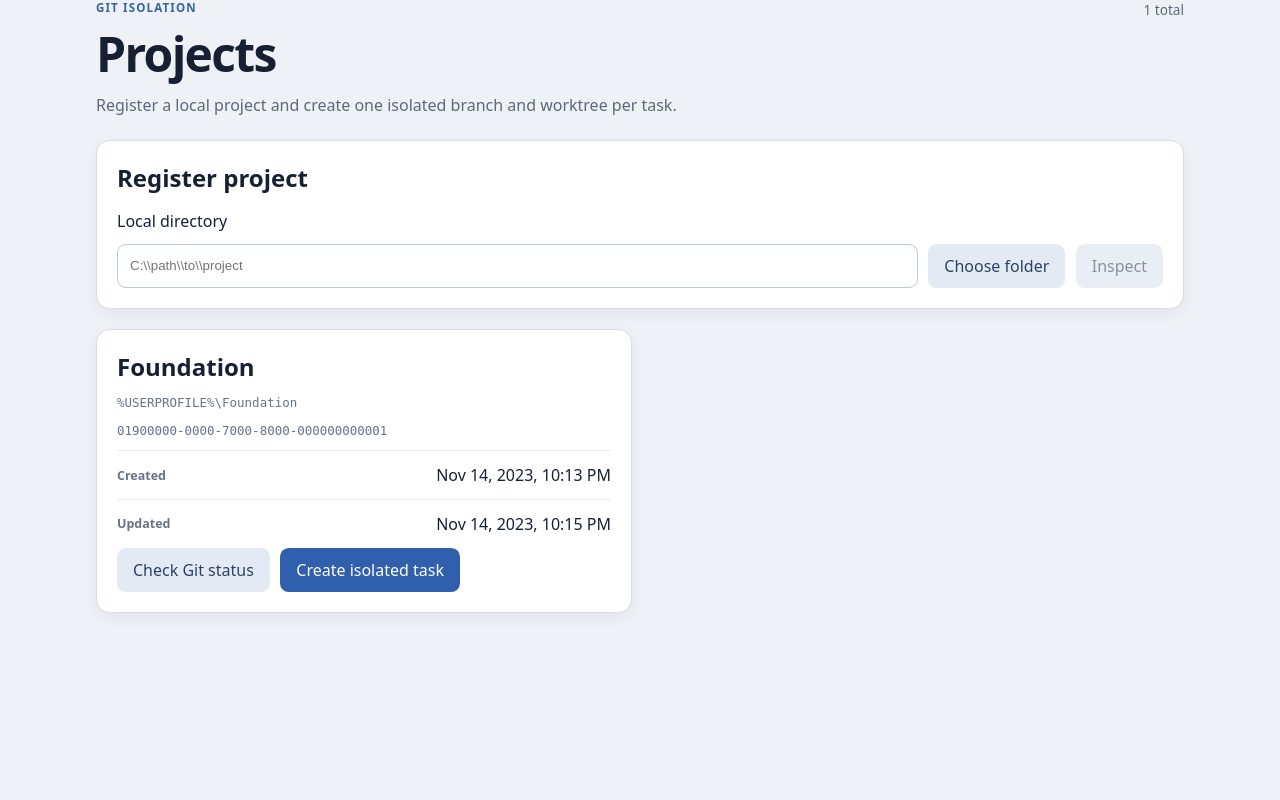
Test: explains the exact non-Git mutation before approval
Check: the heading "Foundation" is shown, box [117, 350, 255, 383]
Step 1. Click the button "Create isolated task" → (370, 570), box [280, 548, 460, 592]
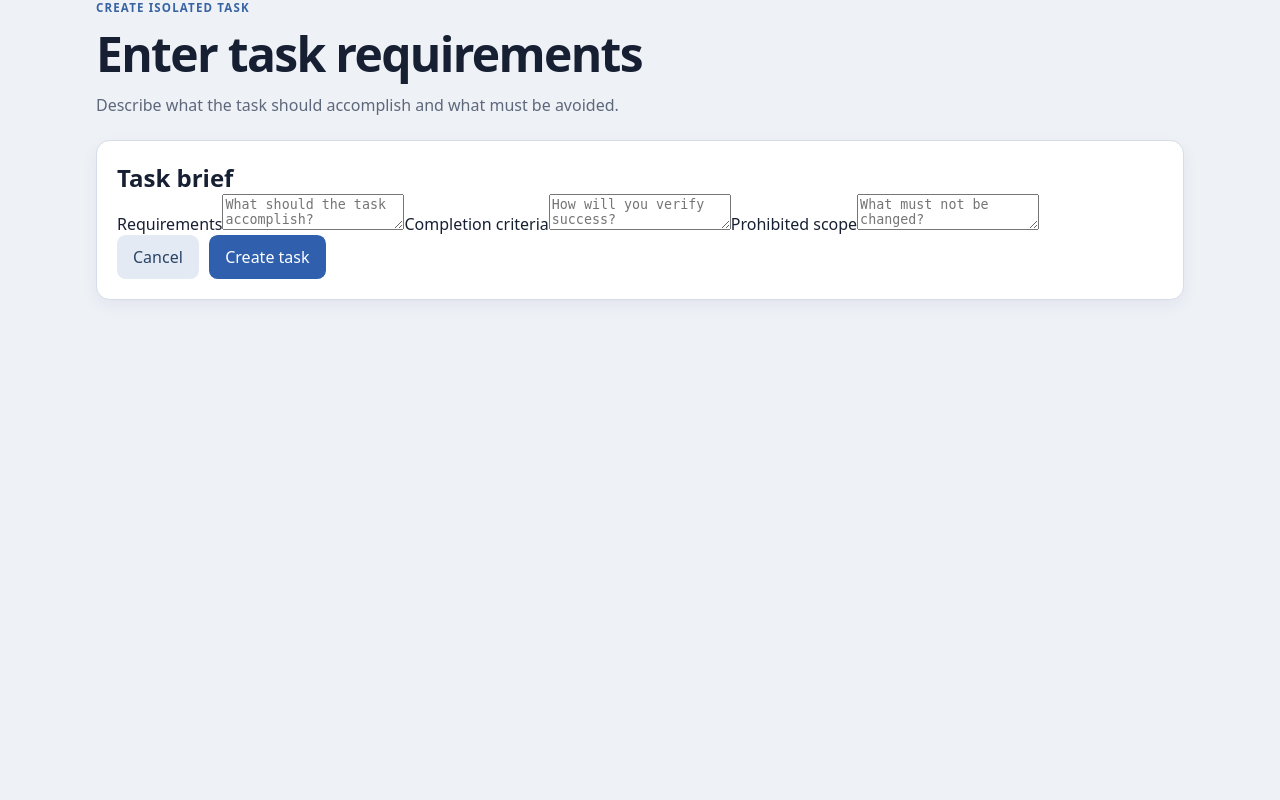
Check: the heading "Enter task requirements" is shown, box [96, 21, 642, 86]
Step 2. Type "Do something" into the text box labelled "Requirements" → (314, 212), box [222, 194, 404, 230]
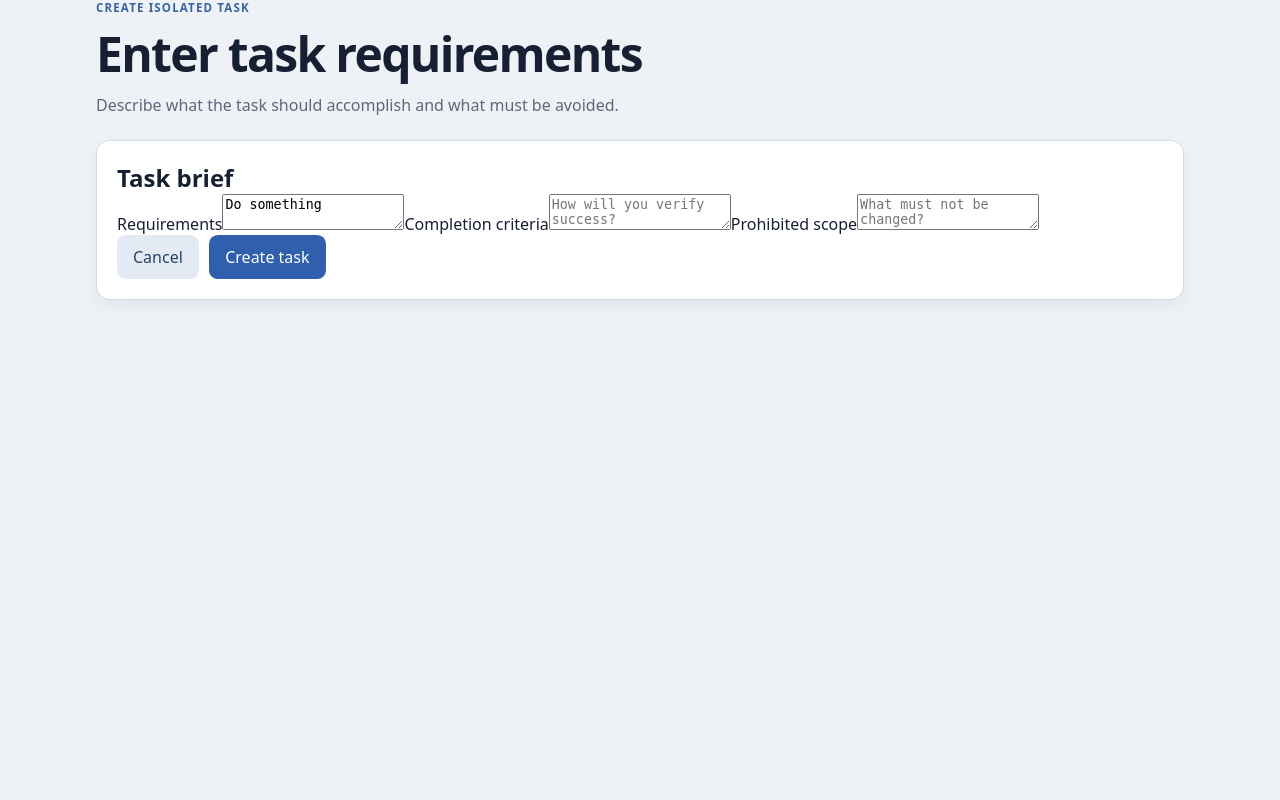
Step 3. Type "It works" into the text box labelled "Completion criteria" → (640, 212), box [549, 194, 731, 230]
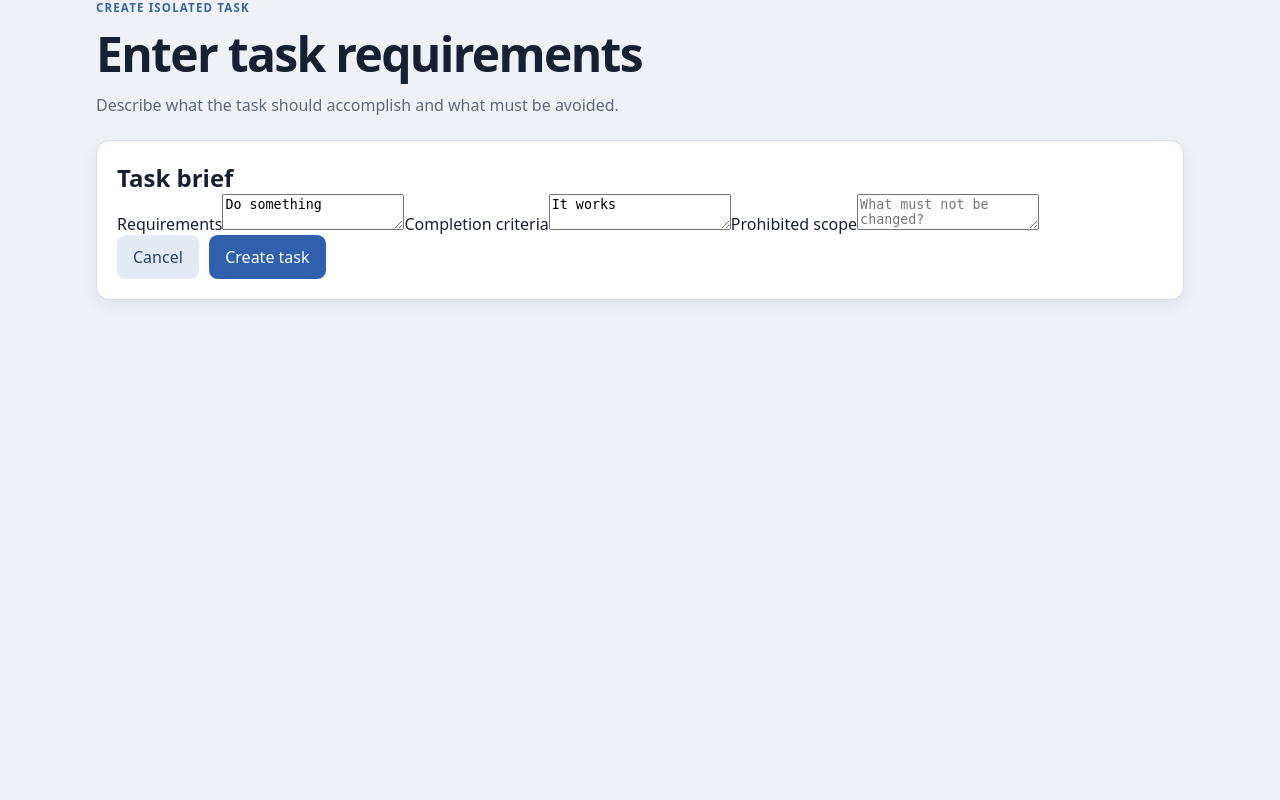
Step 4. Type "Don't break it" into the text box labelled "Prohibited scope" → (948, 212), box [857, 194, 1039, 230]
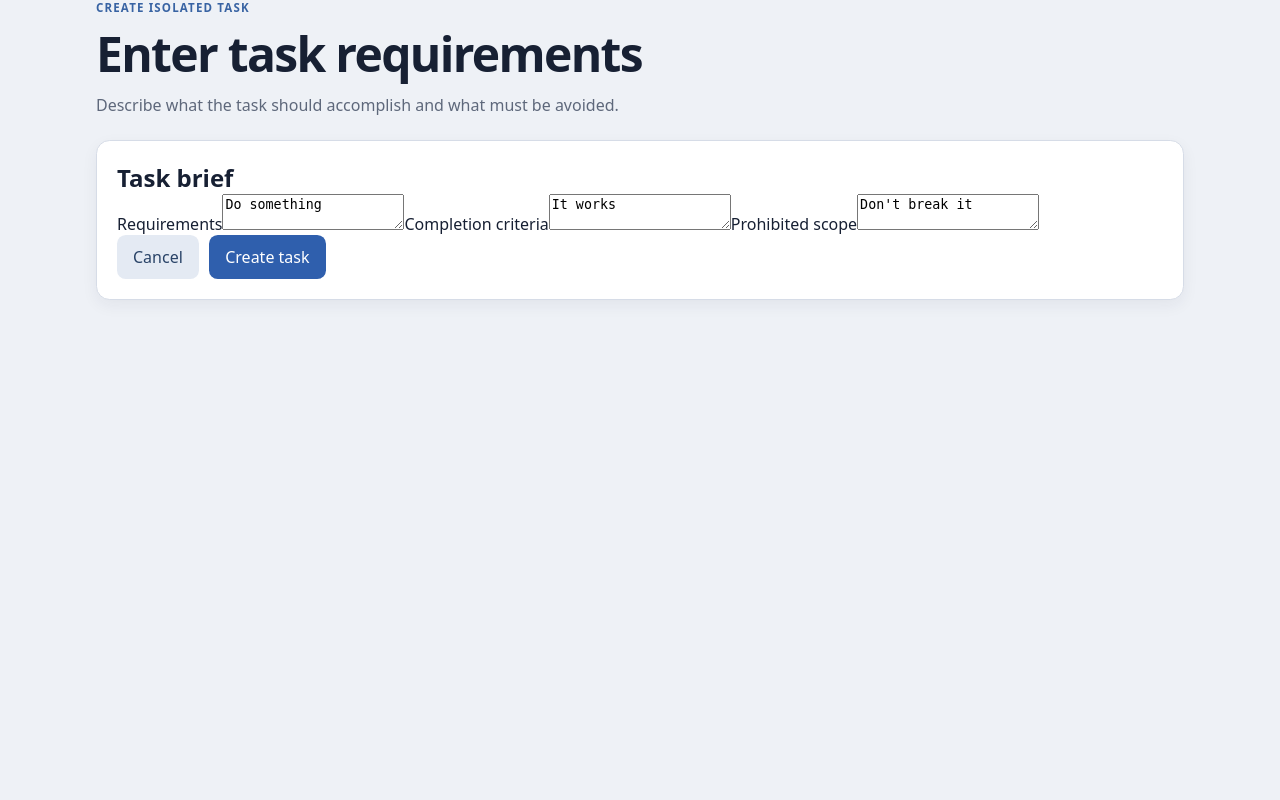
Step 5. Click the button "Create task" → (267, 257), box [209, 235, 326, 279]
(page scrolled)
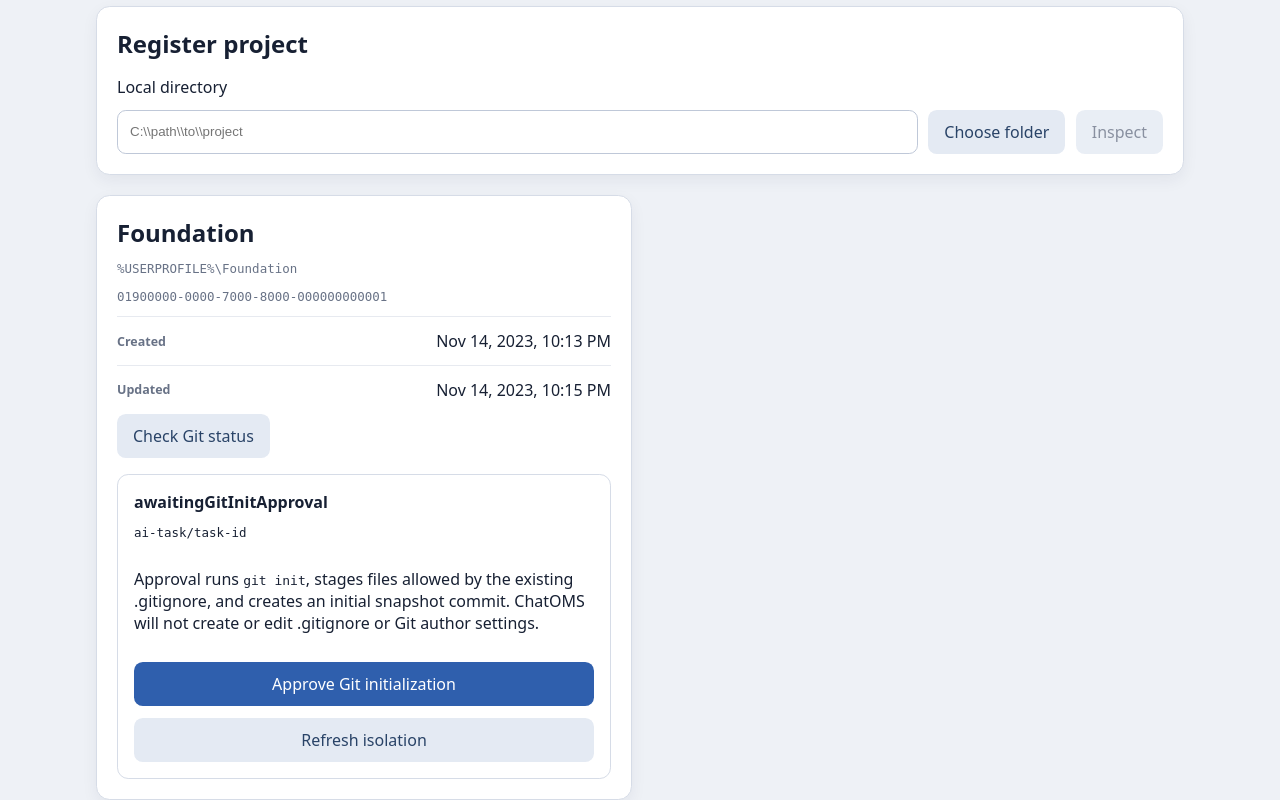
Check: the text "git init" is shown, box [243, 572, 306, 588]
Check: the text "will not create or edit .gitignore or Git author settings" is shown, box [134, 568, 585, 634]
Check: the button "Approve Git initialization" is shown, box [134, 662, 594, 706]
